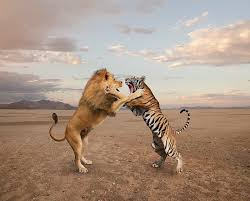lion: (42, 66, 127, 177)
tiger: (120, 71, 193, 176)
